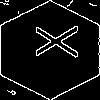X: (25, 25, 78, 58)
